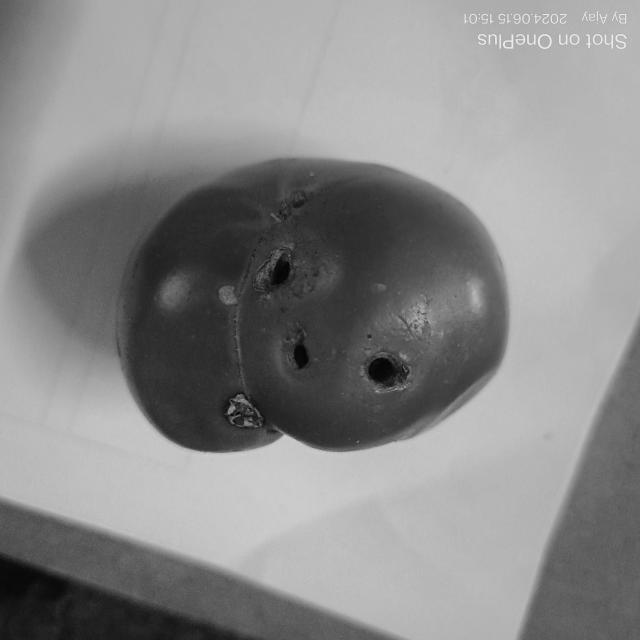fruitworm_bore: (356, 344, 414, 400), (274, 323, 322, 377), (255, 248, 299, 296)
